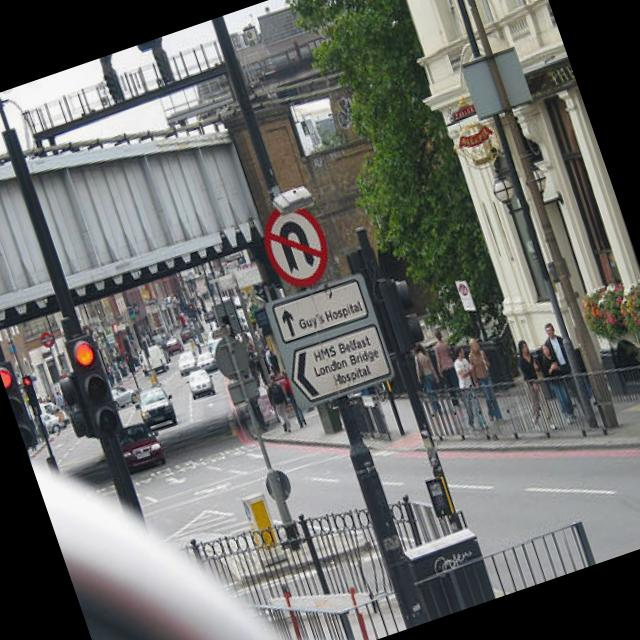Vehicle: (28, 366, 384, 640), (112, 418, 171, 480), (130, 380, 182, 433), (185, 365, 218, 400), (136, 342, 166, 376), (174, 348, 200, 378), (40, 408, 67, 436), (193, 349, 219, 375), (164, 332, 186, 355), (177, 324, 197, 344)
